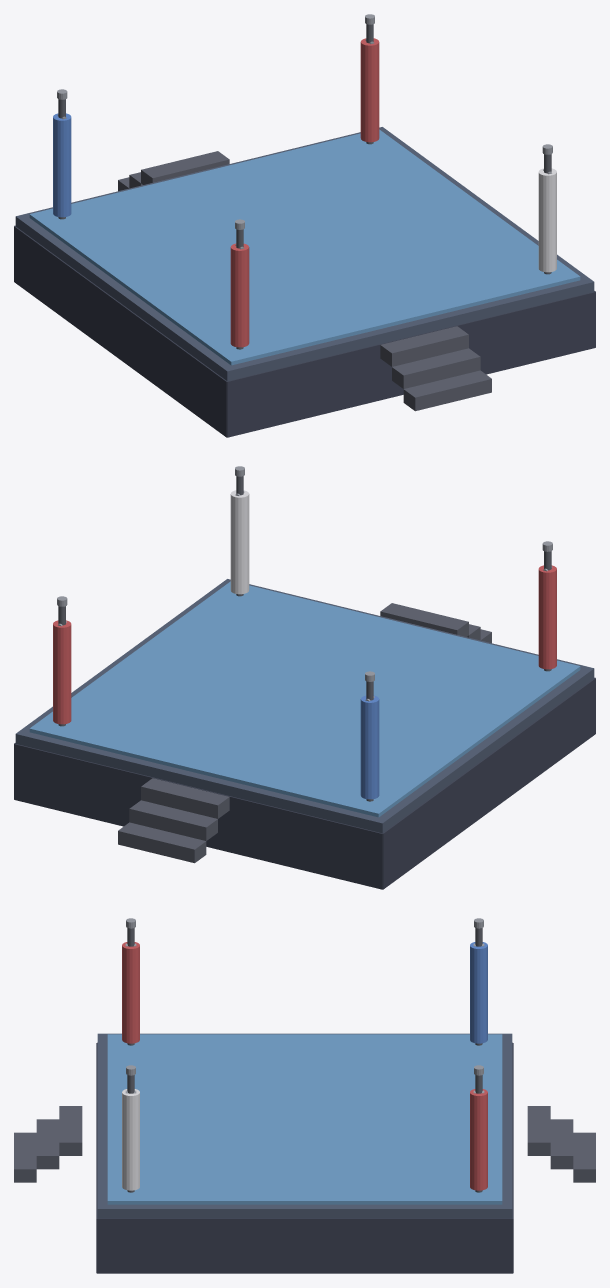
The model's file is ring.glb.
3 views of the same model, one above another, from view 1: azimuth 30°, elevation 25°; view 2: azimuth 150°, elevation 25°; view 3: azimuth 270°, elevation 25° (orthographic). The views are drawn at different scales.
Visible parts, largest first — view 1: Ring; view 2: Ring; view 3: Ring.
Part boxes in pixels (x1,y1,x2,y2): Ring: (14, 14, 595, 437); Ring: (14, 466, 595, 889); Ring: (14, 918, 595, 1273).
Bounding box in the file's own units: 6.24 × 3.16 × 8.7.
